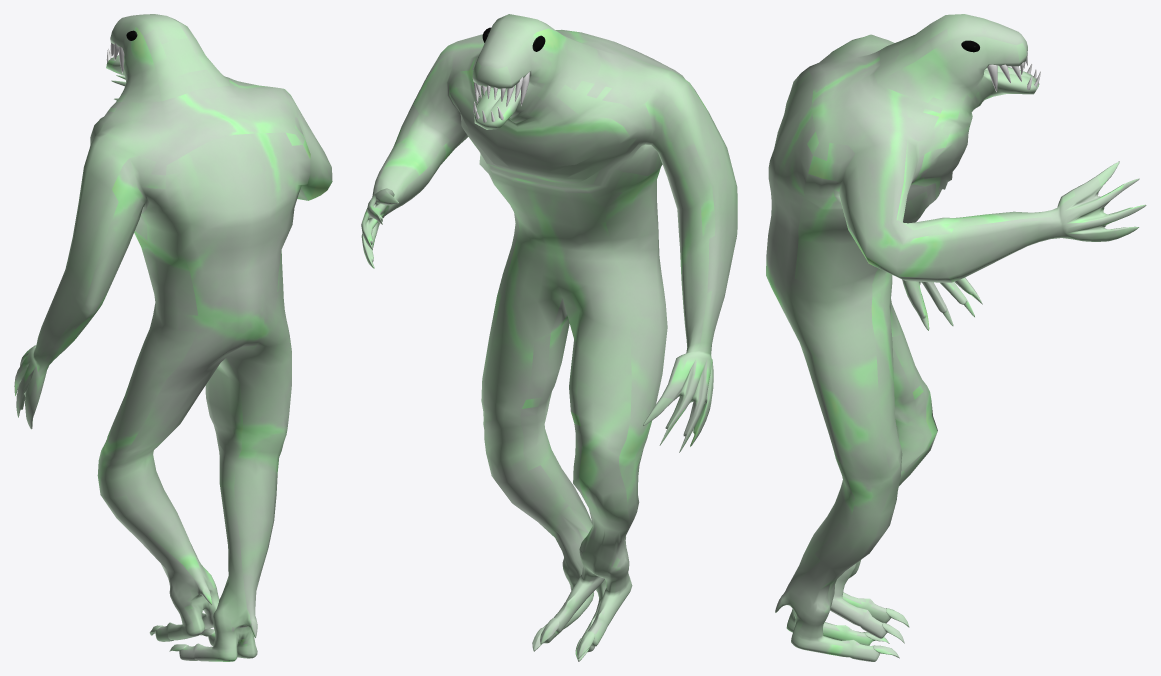
Rendered from Berserkercorrer.0079.obj.
3 views of the same model, side by side, from view 1: azimuth 30°, elevation 25°; view 2: azimuth 150°, elevation 25°; view 3: azimuth 270°, elevation 25° (orthographic). The views are drawn at different scales.
Visible parts, largest first — view 1: polySurface27; view 2: polySurface27; view 3: polySurface27.
Part boxes in pixels (box(x1,y1,x2,y2)): polySurface27: box(14, 14, 332, 661); polySurface27: box(361, 14, 737, 661); polySurface27: box(766, 14, 1146, 661).
Size of the model in its own units: 11.91 by 23.77 by 12.88.
Materials: 1 (1 with a texture image).
